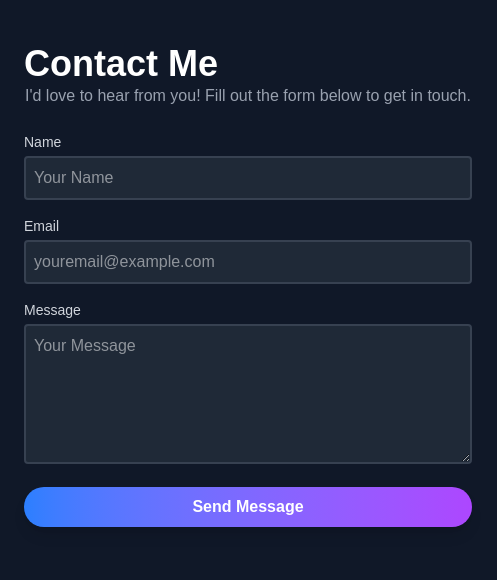
Test: clears previous errors after successful submit
The image size is (497, 580).
Click the button "Send Message".
click(248, 506)  # box top-left (24, 486), bottom-right (472, 526)
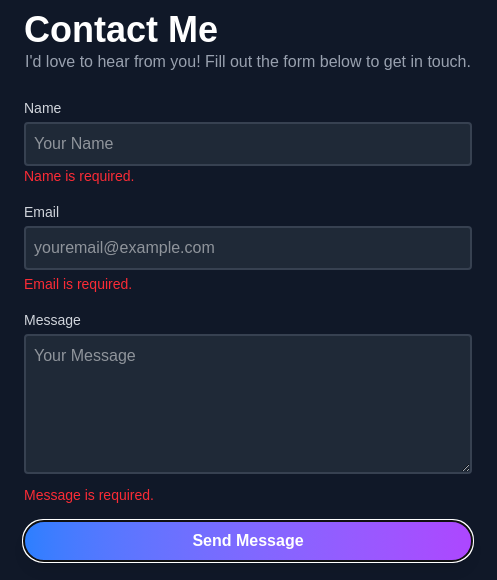
Expected: the text "Name is required." is shown, top-left (24, 168), bottom-right (134, 184)
Type "Eva" into the field labelled "Name".
click(248, 144); type("Eva")  # box top-left (24, 122), bottom-right (472, 166)
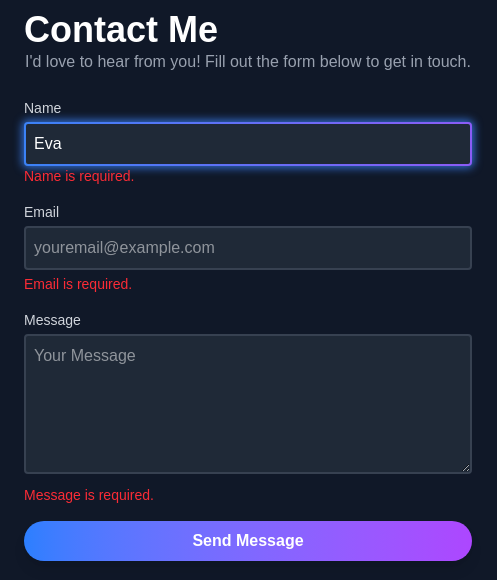
Type "eva@example.com" into the field labelled "Email".
click(248, 248); type("eva@example.com")  # box top-left (24, 226), bottom-right (472, 270)
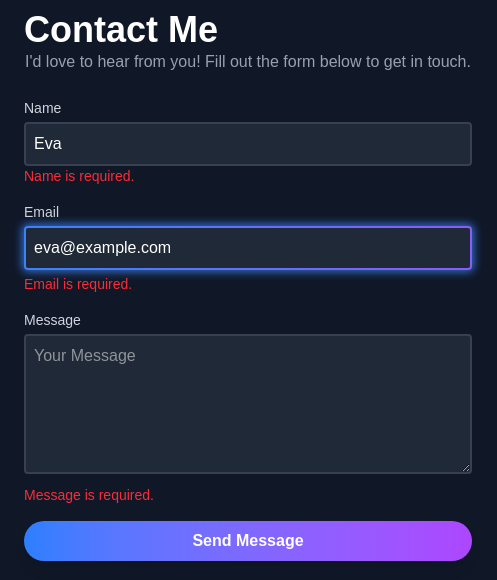
Type "Hi" into the text box labelled "Message".
click(248, 404); type("Hi")  # box top-left (24, 334), bottom-right (472, 474)
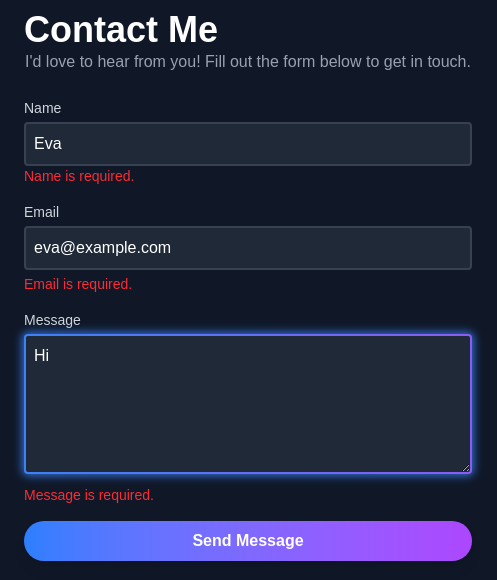
Click the button "Send Message".
click(248, 540)  # box top-left (24, 520), bottom-right (472, 560)
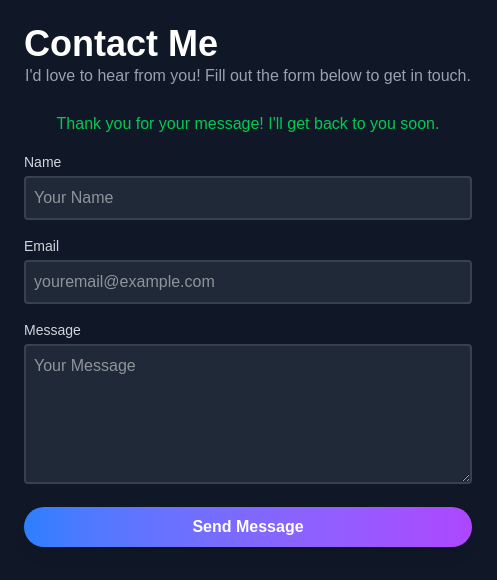
Expected: the text "Thank you for your message! I'll get back to you soon." is shown, top-left (24, 112), bottom-right (472, 136)
Expected: the text "Name is required." is gone
